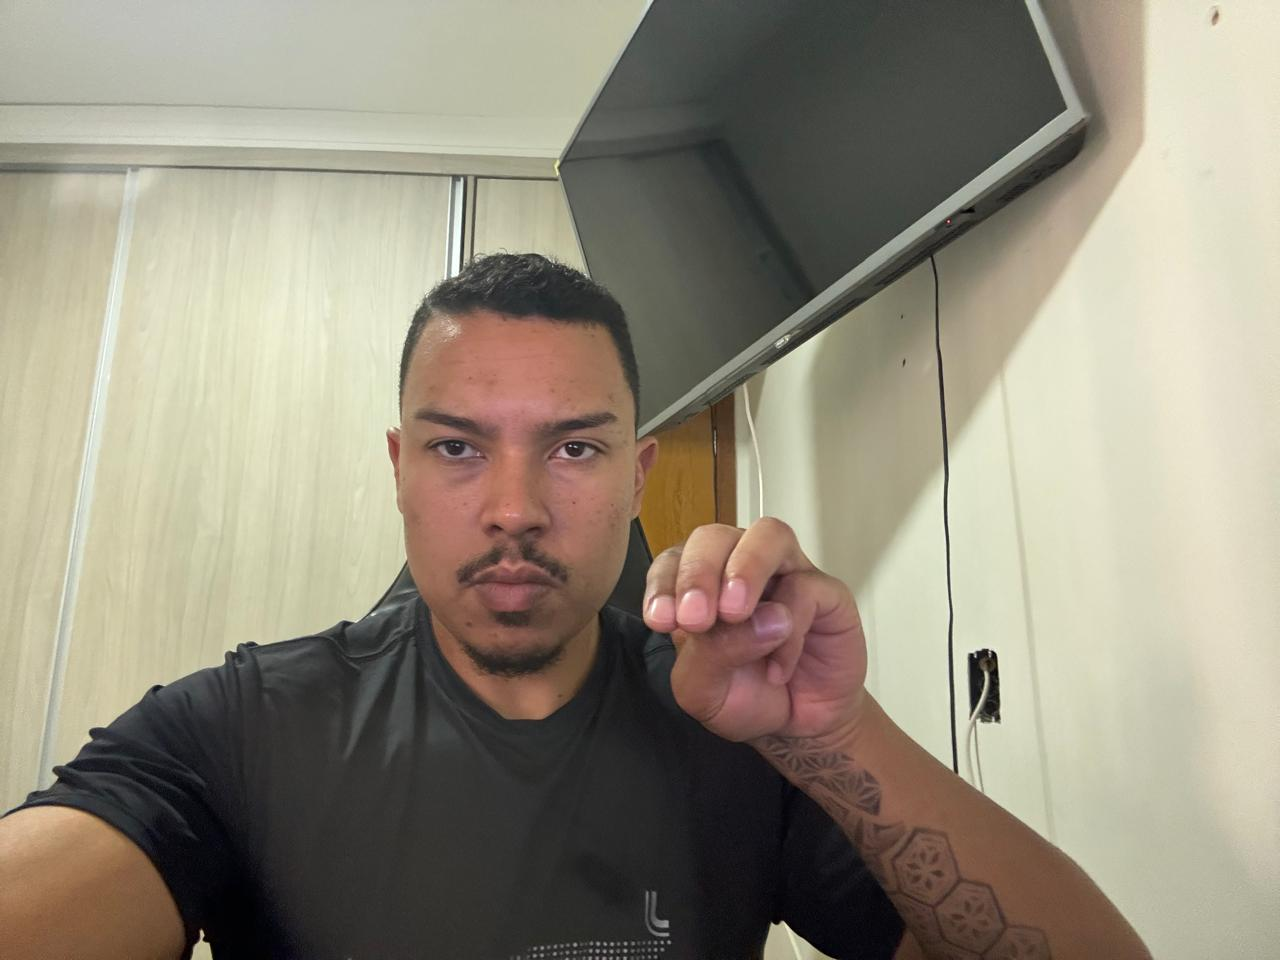m: (630, 505, 878, 756)
